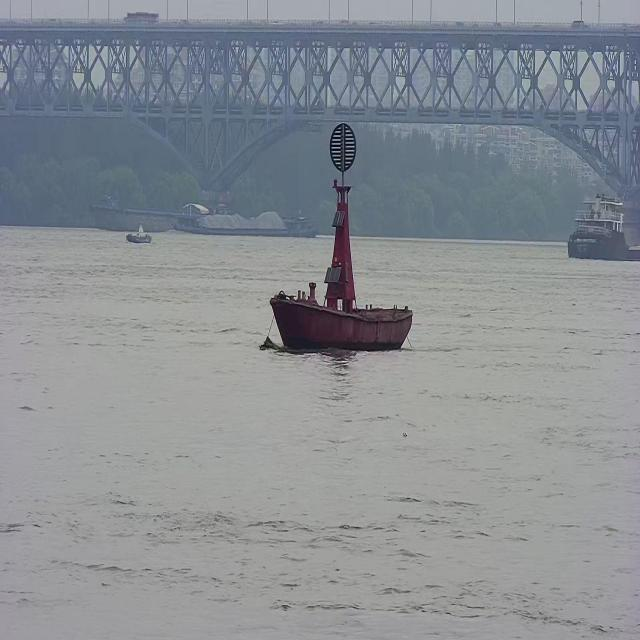CIV_Ship: (252, 120, 419, 353), (122, 220, 156, 247)
